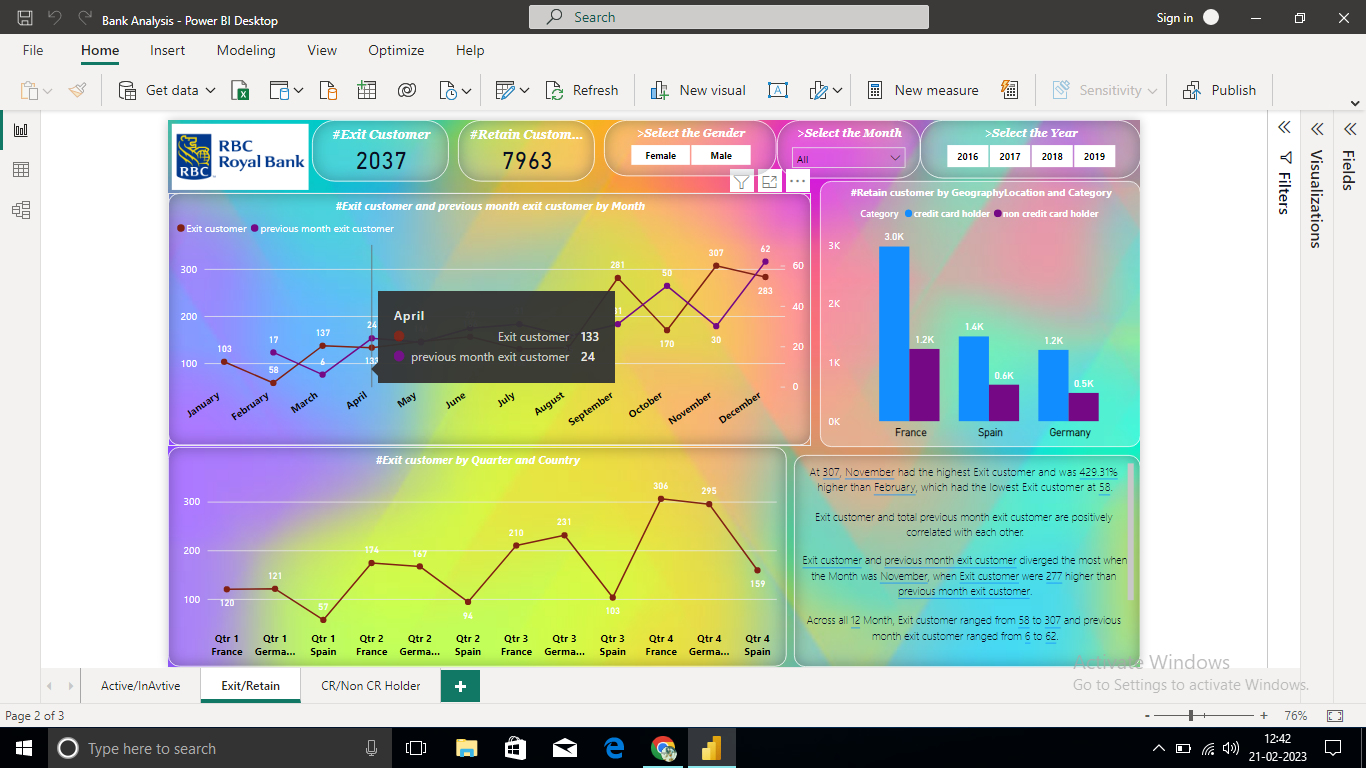

This screenshot's page, from the dashboard's own definition file:
{"tool":"powerbi","page":{"name":"Exit/Retain","canvas":[1280,720],"ordinal":1},"visuals":[{"type":"card","title":"#Exit Customer","fields":{"Values":["calculation table.Exit customer"]},"box":[189.9,0,180,80.8],"z":0},{"type":"card","title":"#Retain Customer","fields":{"Values":["calculation table.Retain customer"]},"box":[381.3,0,180,80.8],"z":1000},{"type":"image","box":[0,0,190,97],"z":2000},{"type":"slicer","title":">Select the Month","fields":{"Values":["Datemaster.Date.Variation.Date Hierarchy.Month"]},"box":[800.8,0,188.5,76.5],"z":3000},{"type":"slicer","title":">Select the Year","fields":{"Values":["Datemaster.Date.Variation.Date Hierarchy.Year"]},"box":[989.3,0,290.6,76.5],"z":4000},{"type":"lineChart","title":"#Exit customer by Quarter and Country","fields":{"Category":["Datemaster.Date.Variation.Date Hierarchy.Quarter","Geography.GeographyLocation"],"Y":["calculation table.Exit customer"]},"box":[0,430.9,813.5,289.1],"z":5000},{"type":"lineChart","title":"#Exit customer and previous month exit customer by Month","fields":{"Category":["Datemaster.Date.Variation.Date Hierarchy.Month"],"Y":["calculation table.Exit customer"],"Y2":["calculation table.previous month exit customer"]},"box":[0,96.4,846.1,332],"z":6000},{"type":"clusteredColumnChart","title":"#Retain customer by GeographyLocation and Category","fields":{"Category":["Geography.GeographyLocation"],"Y":["calculation table.Retain customer"],"Series":["Credit card.Category"]},"box":[857.5,80.8,422.4,350.1],"z":7000},{"type":"textbox","box":[823.5,440.8,456.4,279.2],"z":8000},{"type":"slicer","title":">Select the Gender","fields":{"Values":["Gender.GenderCategory"]},"box":[574,0,226.8,73.7],"z":9000}]}

Visuals, with their boxes on the page's 1280x720 design canvas (x1, y1, x2, y2). These are canvas units, not pixel positions in the 1366x768 screenshot, which may show the page scaled, cropped or inside an application window:
"#Exit Customer" card: crop(190, 0, 370, 81)
"#Retain Customer" card: crop(381, 0, 561, 81)
image: crop(0, 0, 190, 97)
">Select the Month" slicer: crop(801, 0, 989, 76)
">Select the Year" slicer: crop(989, 0, 1280, 76)
"#Exit customer by Quarter and Country" lineChart: crop(0, 431, 814, 720)
"#Exit customer and previous month exit customer by Month" lineChart: crop(0, 96, 846, 428)
"#Retain customer by GeographyLocation and Category" clusteredColumnChart: crop(858, 81, 1280, 431)
textbox: crop(824, 441, 1280, 720)
">Select the Gender" slicer: crop(574, 0, 801, 74)
